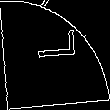L_W: (30, 38, 80, 72)
